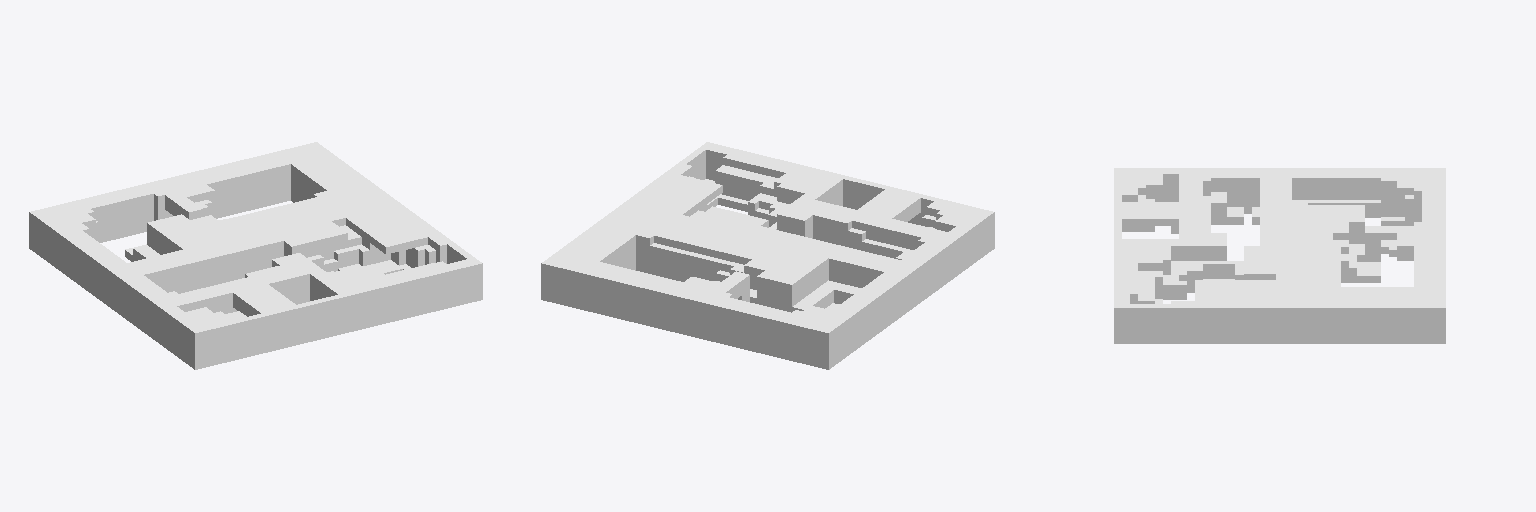
The model's file is recta_suelo_roto_partial.obj.
The picture shows the model from 3 angles: view 1: azimuth 30°, elevation 25°; view 2: azimuth 150°, elevation 25°; view 3: azimuth 270°, elevation 25°; orthographic projection.
Parts seen in each view (by area): view 1: recta_suelo_roto_partial; view 2: recta_suelo_roto_partial; view 3: recta_suelo_roto_partial.
Part boxes in pixels (left/top/right/bottom): recta_suelo_roto_partial: left=29, top=142, right=482, bottom=369; recta_suelo_roto_partial: left=541, top=142, right=994, bottom=369; recta_suelo_roto_partial: left=1114, top=168, right=1445, bottom=343.
Bounding box in the file's own units: 41 × 5 × 41.